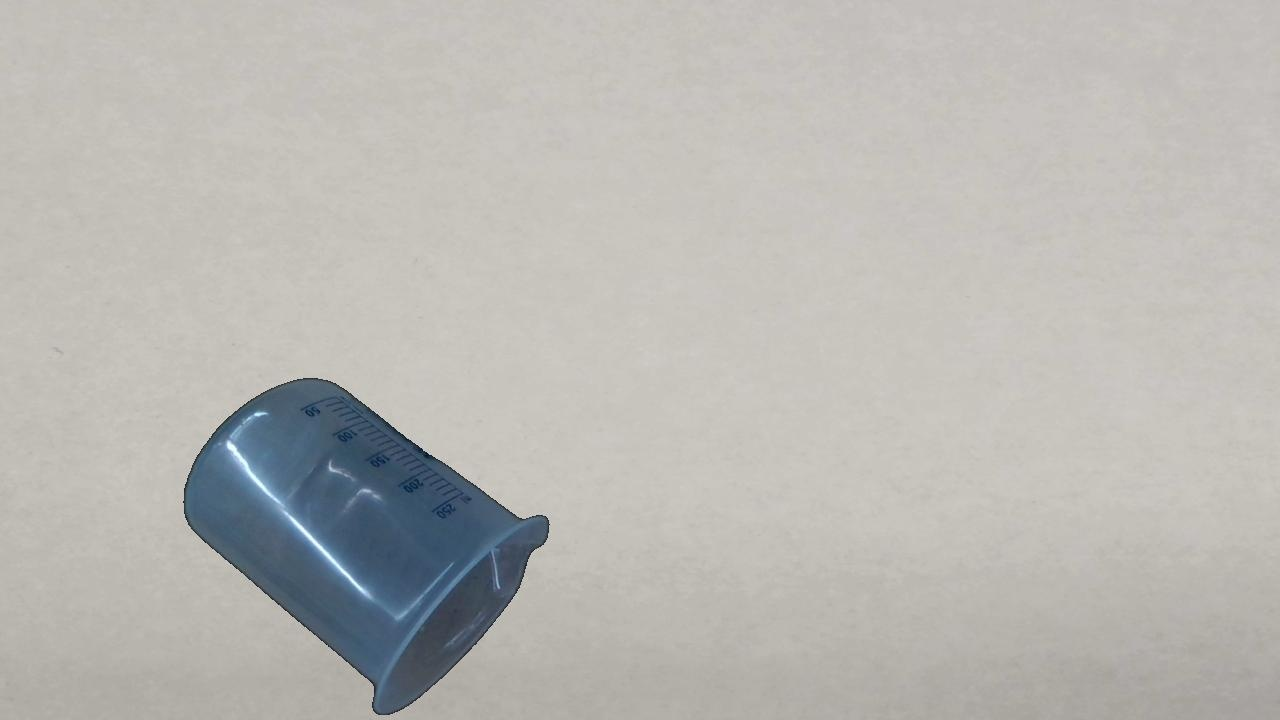becker: (181, 376, 550, 712)
